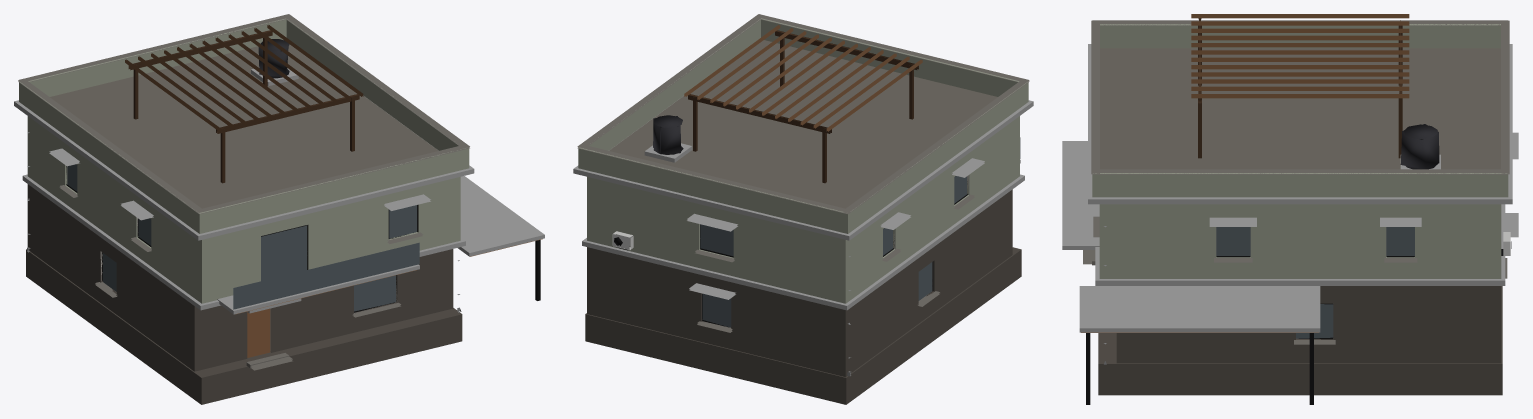
The model's file is city_house_12x14_2_far.glb.
The picture shows the model from 3 angles, left to right: view 1: azimuth 30°, elevation 25°; view 2: azimuth 150°, elevation 25°; view 3: azimuth 270°, elevation 25°; orthographic projection. The views are drawn at different scales.
Parts seen in each view (by area): view 1: city_house_12x14_2; view 2: city_house_12x14_2; view 3: city_house_12x14_2.
Boxes of the visible parts, <box> form: city_house_12x14_2: <box>14,14,544,404</box>; city_house_12x14_2: <box>573,14,1033,404</box>; city_house_12x14_2: <box>1062,14,1518,404</box>.
Bounding box in the file's own units: 16.11 × 10.29 × 15.91.
